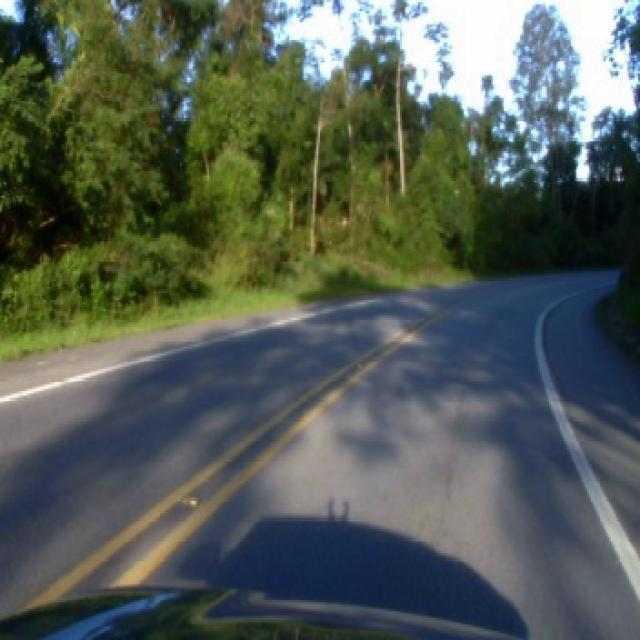Poth-hole: (178, 493, 200, 507), (353, 360, 362, 367)
